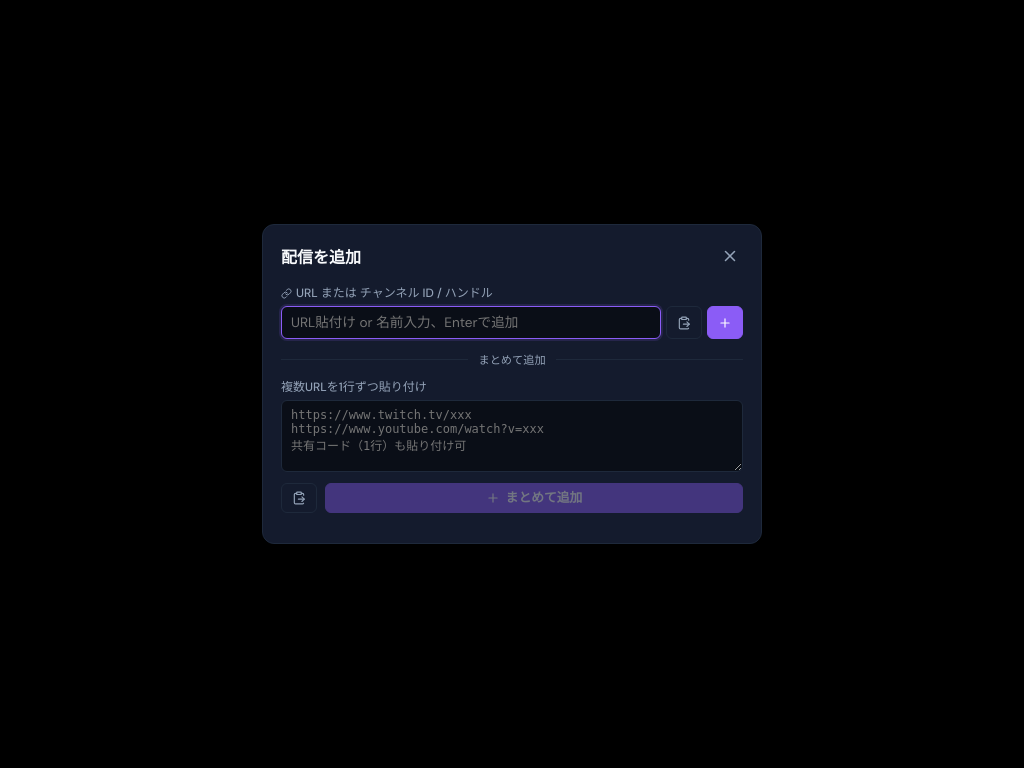
Test: ペーストボタン › 単一入力欄には複数行のうち先頭行だけを入れる
This screenshot has width=1024, height=768.
Click the button named "クリップボードから貼り付け" below "URL または チャンネル ID / ハンドル" at (684, 322), box [666,306,702,339]
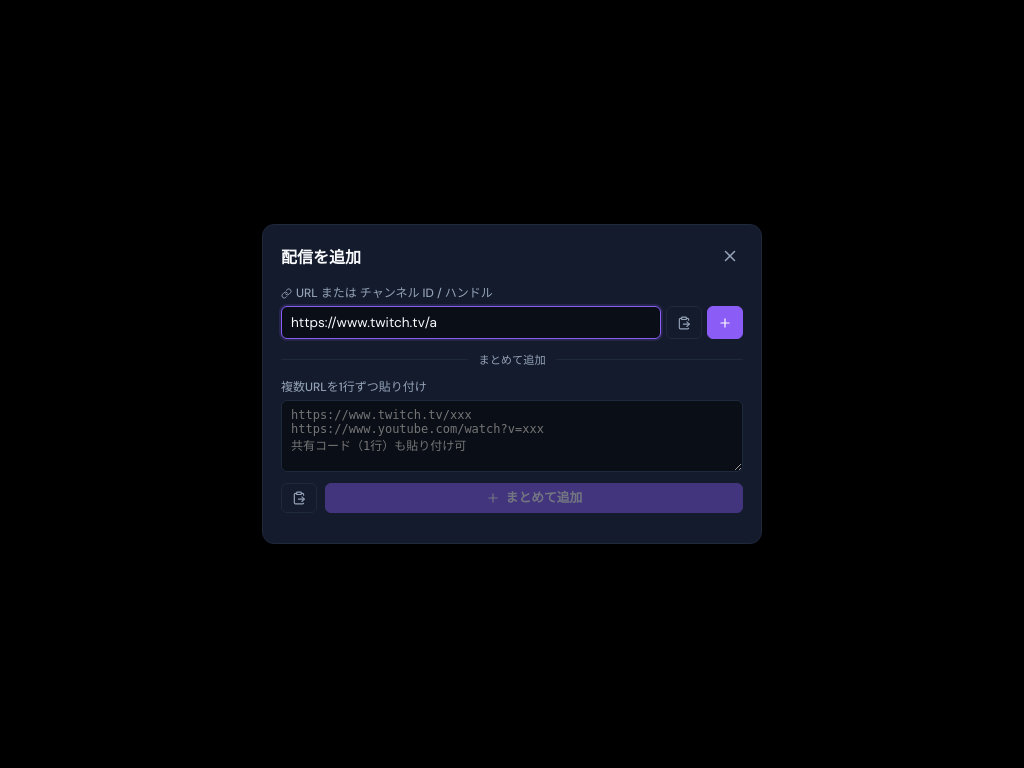
Expected: the field with class "form-input" holds "https://www.twitch.tv/a", [281,306,661,339]
